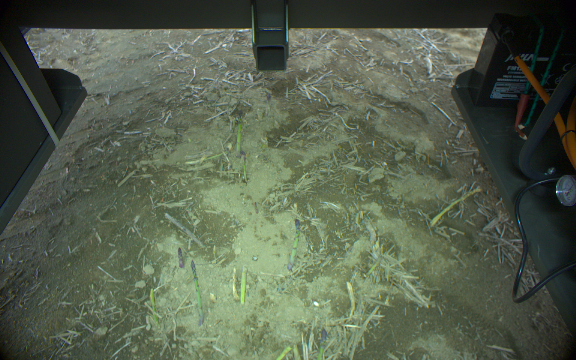aspa: (430, 185, 481, 230), (188, 259, 205, 326), (286, 218, 301, 270), (147, 287, 162, 326), (234, 107, 245, 155), (238, 267, 250, 303), (316, 328, 328, 360), (240, 150, 250, 185), (176, 246, 186, 270)
